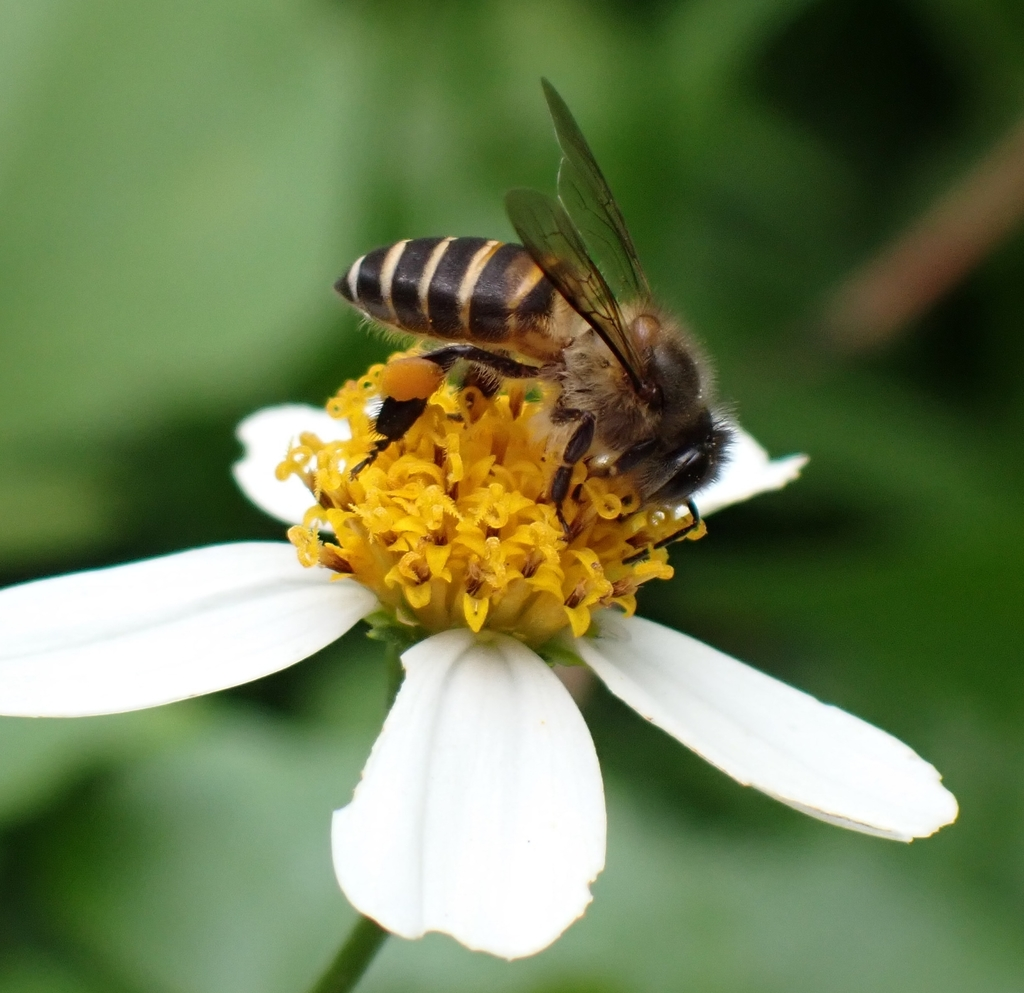honeybee: (331, 76, 736, 564)
